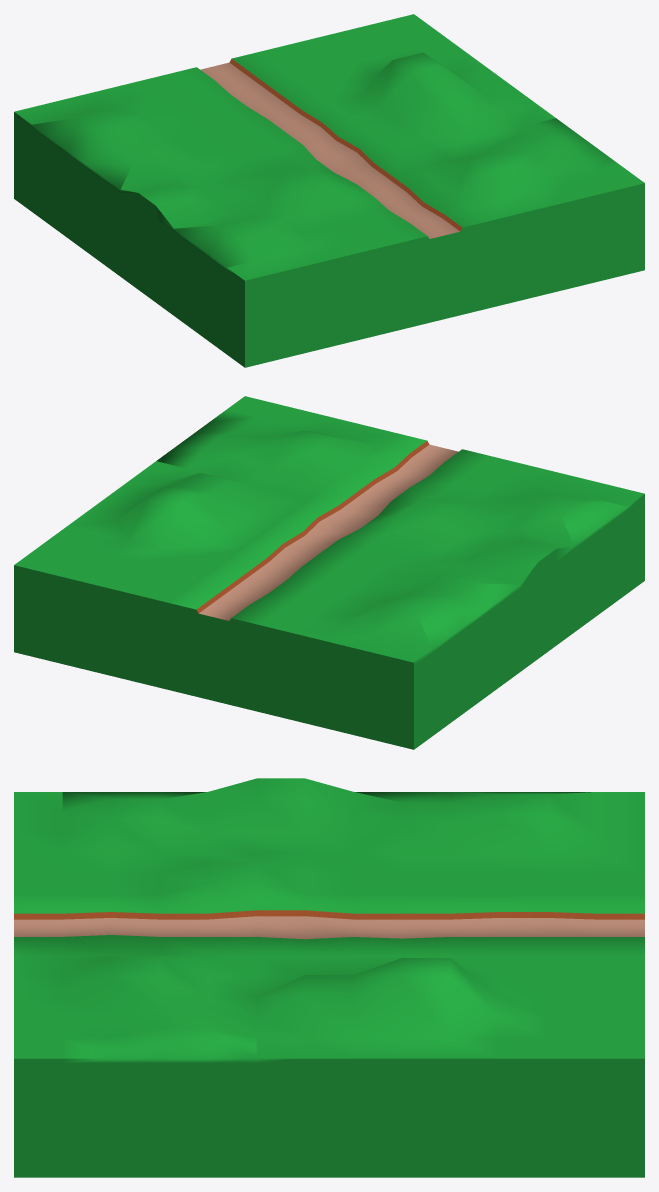
Rendered from model_titleGround.fbx.
3 views of the same model, one above another, from view 1: azimuth 30°, elevation 25°; view 2: azimuth 150°, elevation 25°; view 3: azimuth 270°, elevation 25° (orthographic). The views are drawn at different scales.
Parts seen in each view (by area): view 1: obj1; view 2: obj1; view 3: obj1.
Part boxes in pixels (x1,y1,x2,y2): obj1: (14,14,644,367); obj1: (14,396,644,749); obj1: (14,778,644,1177).
Size of the model in its own units: 500 by 138 by 500.
